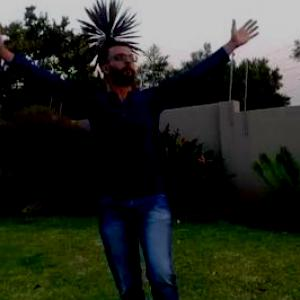takeoff: (1, 25, 264, 299)
